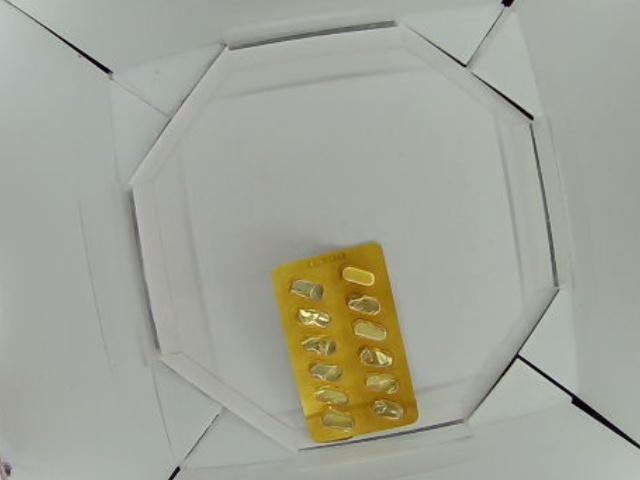Medicine: (273, 238, 420, 446)
